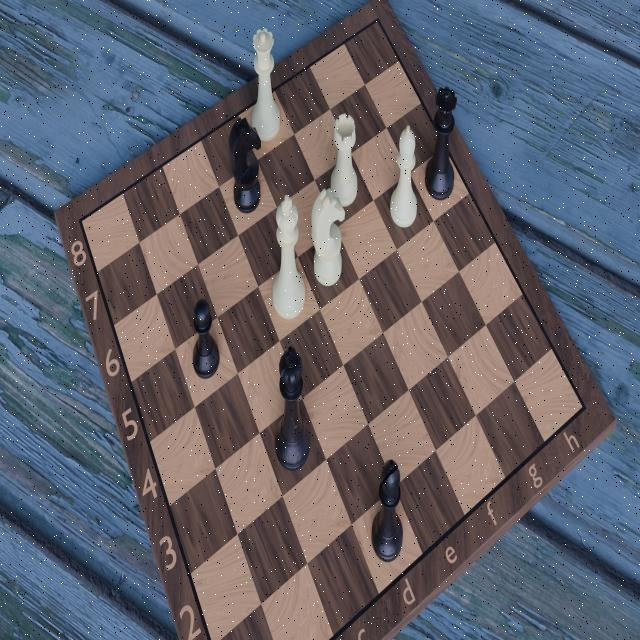black-bishop: (369, 457, 404, 565)
black-king: (271, 342, 313, 470)
black-knight: (228, 110, 263, 214)
black-pawn: (190, 294, 223, 379)
black-queen: (423, 84, 457, 204)
white-bishop: (387, 122, 421, 231)
white-king: (268, 189, 310, 322)
white-knight: (309, 187, 344, 287)
white-queen: (248, 28, 284, 140)
white-rook: (325, 112, 362, 206)
